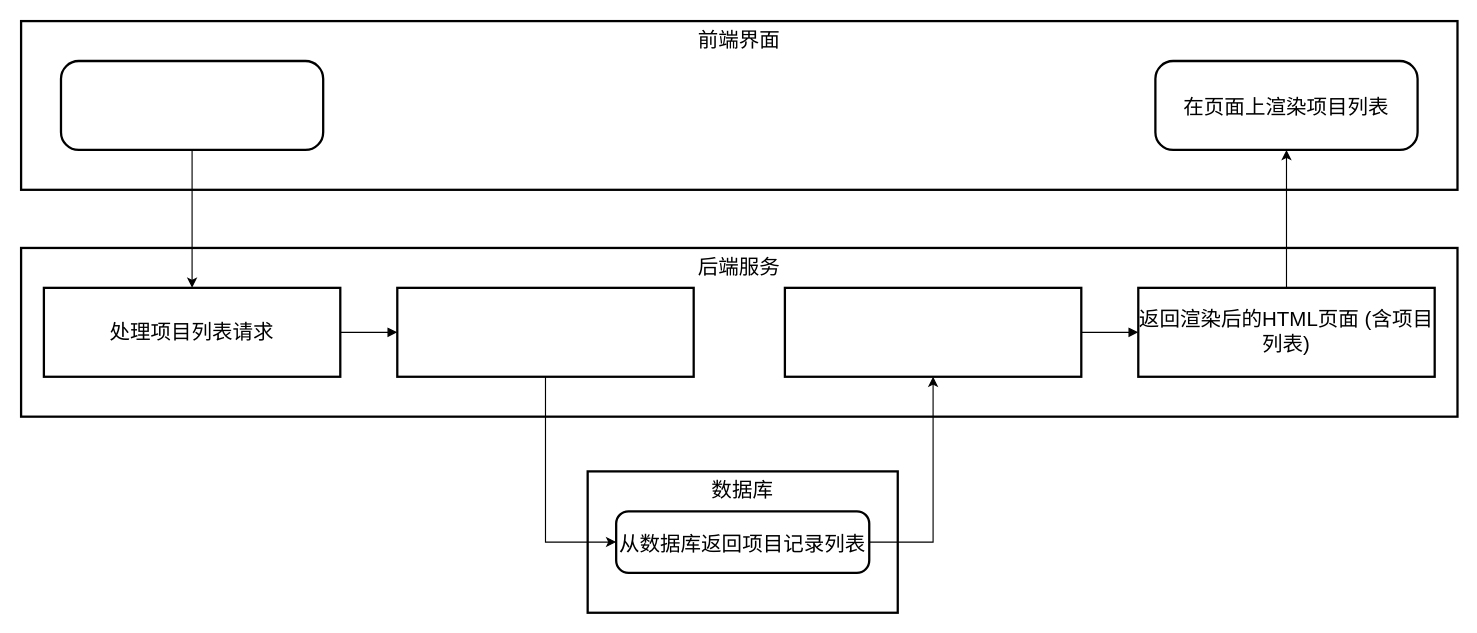
The diagram is 1477 pixels wide and 633 high, and some of its shapes have lost their labels. Here are the shapes that lost their labels. From the top down, the centre of each, then its label:
At (191,104): "浏览器请求项目列表页面".
At (545,331): "查询当前用户的所有项目记录".
At (932,331): "格式化项目列表数据供模板使用".
